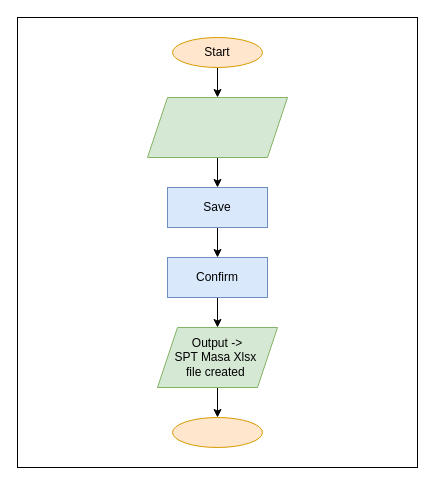
This 435x485 diagram has some shape labels left out. The box of each missing label's shape, as (x1, y1, x2, y2) in pixels:
Create SPT Masa *fill the required fields: (146, 96, 288, 158)
End: (172, 416, 262, 448)
